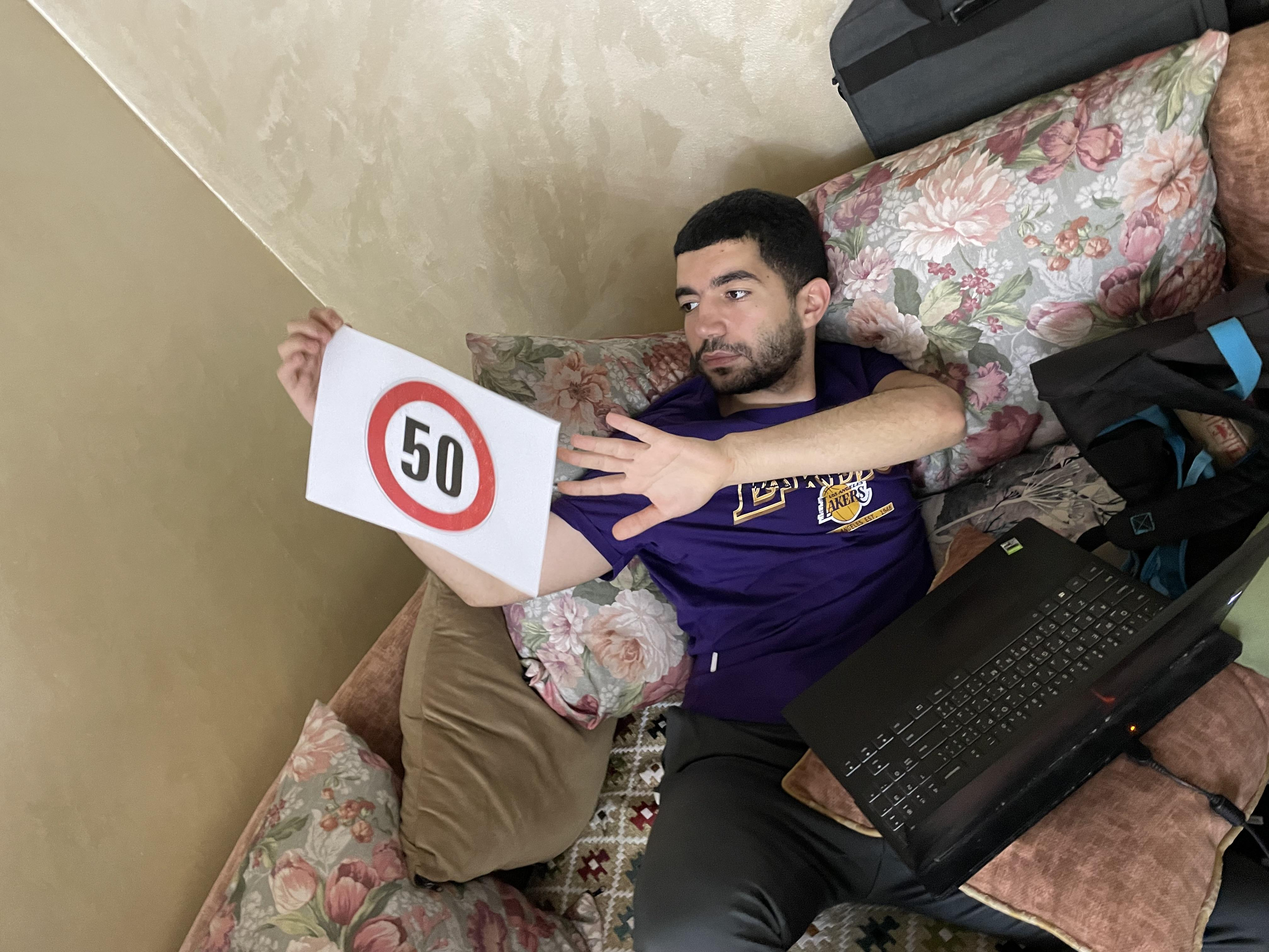50-Speed: (364, 370, 496, 544)
